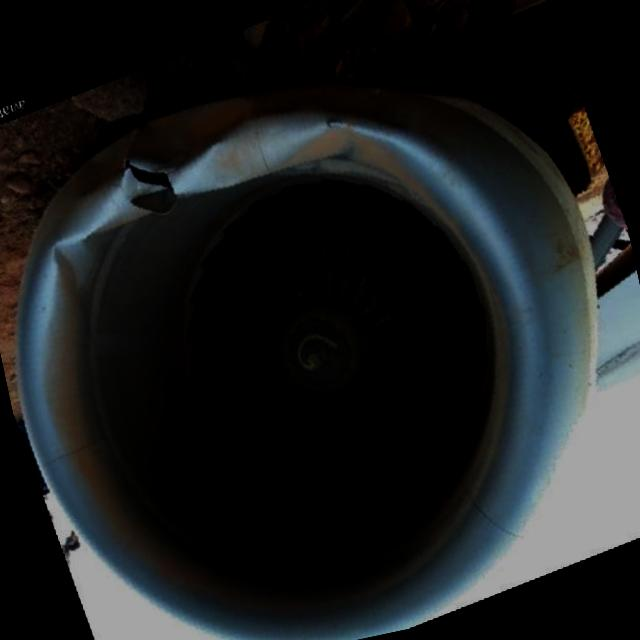crack: (122, 148, 173, 206)
dent: (162, 93, 346, 205), (40, 228, 116, 303)
